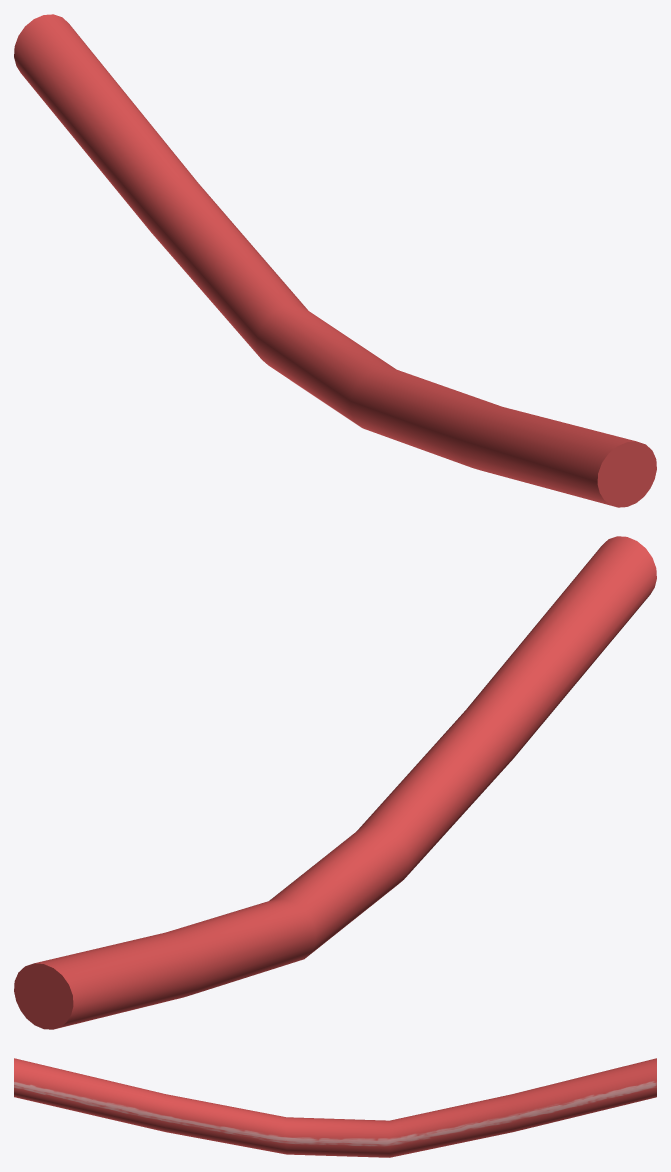
The model's file is rWire.obj.
3 views of the same model, one above another, from view 1: azimuth 30°, elevation 25°; view 2: azimuth 150°, elevation 25°; view 3: azimuth 270°, elevation 25° (orthographic). The views are drawn at different scales.
Visible parts, largest first — view 1: wire:wire; view 2: wire:wire; view 3: wire:wire.
Part boxes in pixels (x1,y1,x2,y2): wire:wire: (14,14,656,507); wire:wire: (14,536,656,1029); wire:wire: (14,1058,656,1157).
Bounding box in the file's own units: 0.1139 × 0.32 × 1.94.
1 material, 1 textured.
